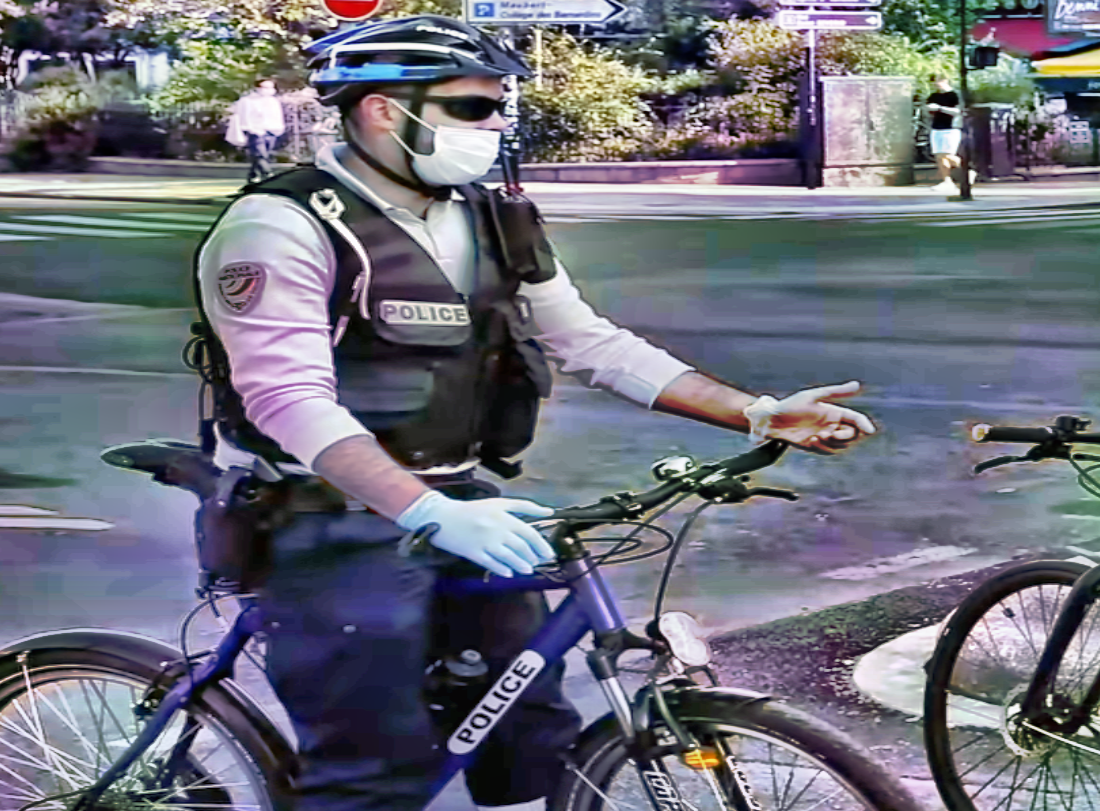mask_weared_incorrect: (321, 22, 517, 196)
